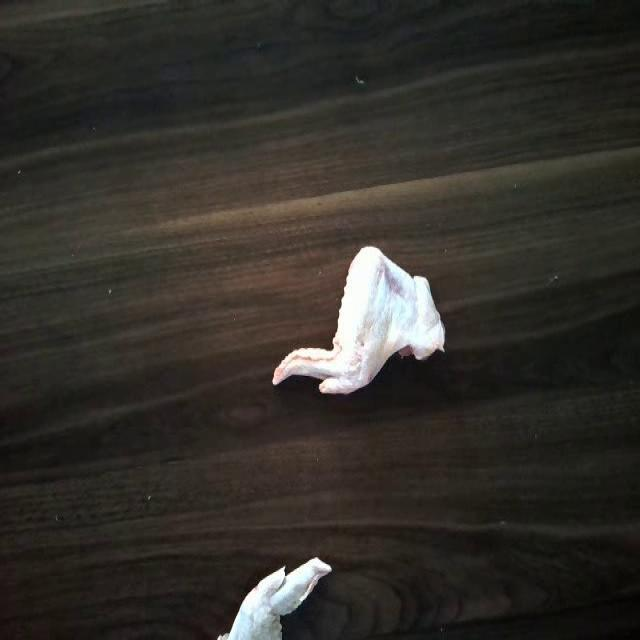wing: (266, 243, 457, 403), (209, 550, 331, 640)
